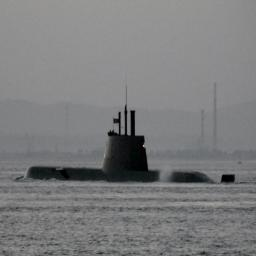submarine: (23, 108, 238, 188)
